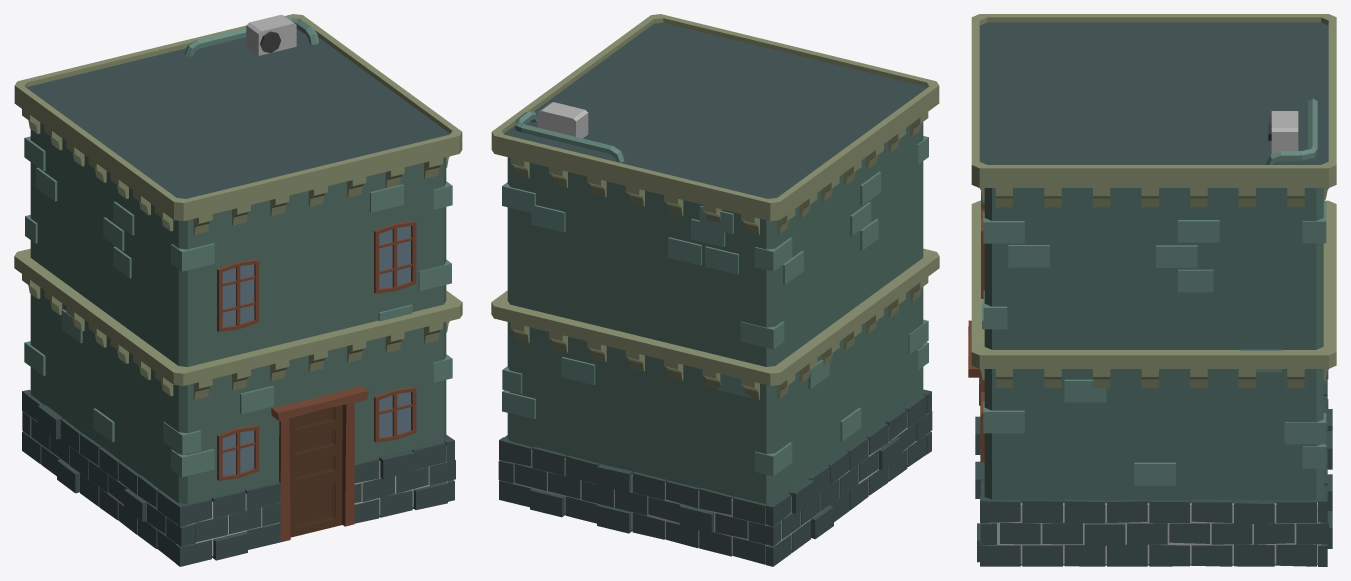
The model's file is 2Story_2_Mat.glb.
The picture shows the model from 3 angles, left to right: view 1: azimuth 30°, elevation 25°; view 2: azimuth 150°, elevation 25°; view 3: azimuth 270°, elevation 25°; orthographic projection. The views are drawn at different scales.
Visible parts, largest first — view 1: 2Story_2_Mat; view 2: 2Story_2_Mat; view 3: 2Story_2_Mat.
Part boxes in pixels (x1=…): 2Story_2_Mat: x1=14, y1=14, x2=462, y2=566; 2Story_2_Mat: x1=491, y1=14, x2=939, y2=566; 2Story_2_Mat: x1=968, y1=14, x2=1336, y2=566.
Size of the model in its own units: 2.16 by 2.76 by 2.17.
